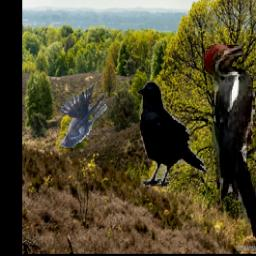Crow: (135, 80, 208, 189)
Swallow: (59, 81, 107, 149)
Woodpecker: (204, 43, 256, 243)
